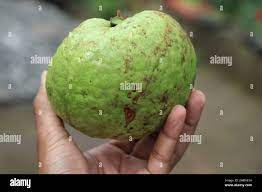guava: (33, 6, 243, 158)
